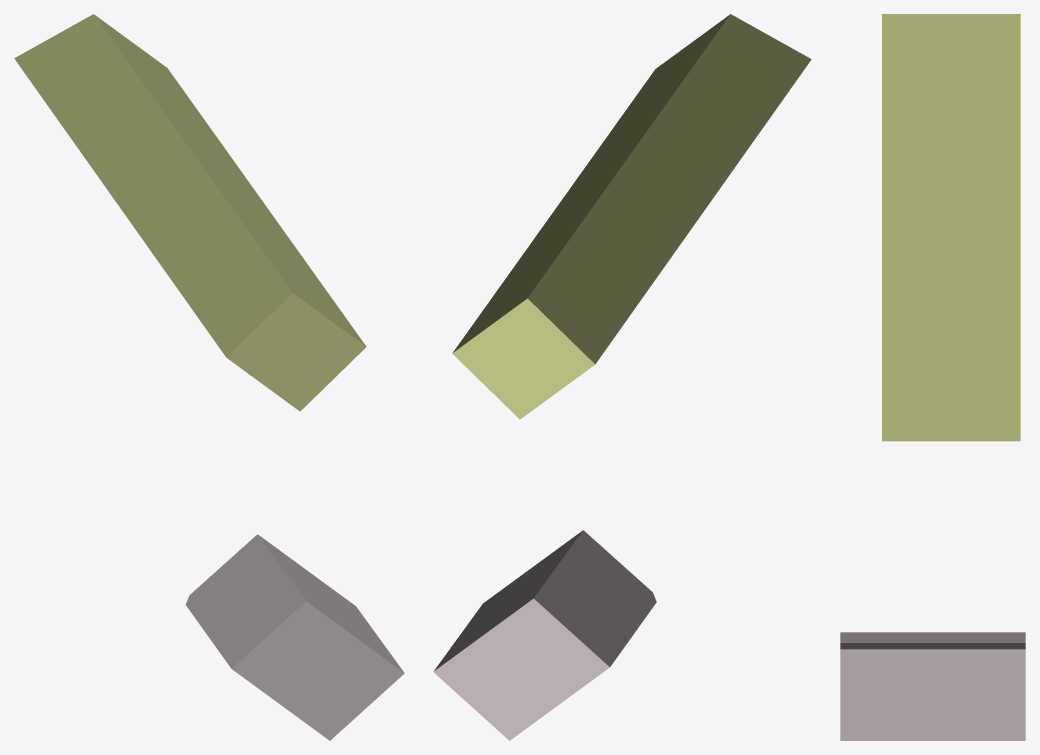
3 renders of one model, left to right at view 1: azimuth 30°, elevation 25°; view 2: azimuth 150°, elevation 25°; view 3: azimuth 270°, elevation 25°, orthographic. The views are drawn at different scales.
Visible parts, largest first — view 1: 0_2_3_2_1_1_3_1_1; view 2: 0_2_3_2_1_1_3_1_1; view 3: 0_2_3_2_1_1_3_1_1.
Part boxes in pixels (x1,y1,x2,y2): 0_2_3_2_1_1_3_1_1: [14, 14, 404, 740]; 0_2_3_2_1_1_3_1_1: [433, 14, 811, 740]; 0_2_3_2_1_1_3_1_1: [840, 14, 1025, 740].
Size of the model in its own units: 20.73 by 46.45 by 12.
